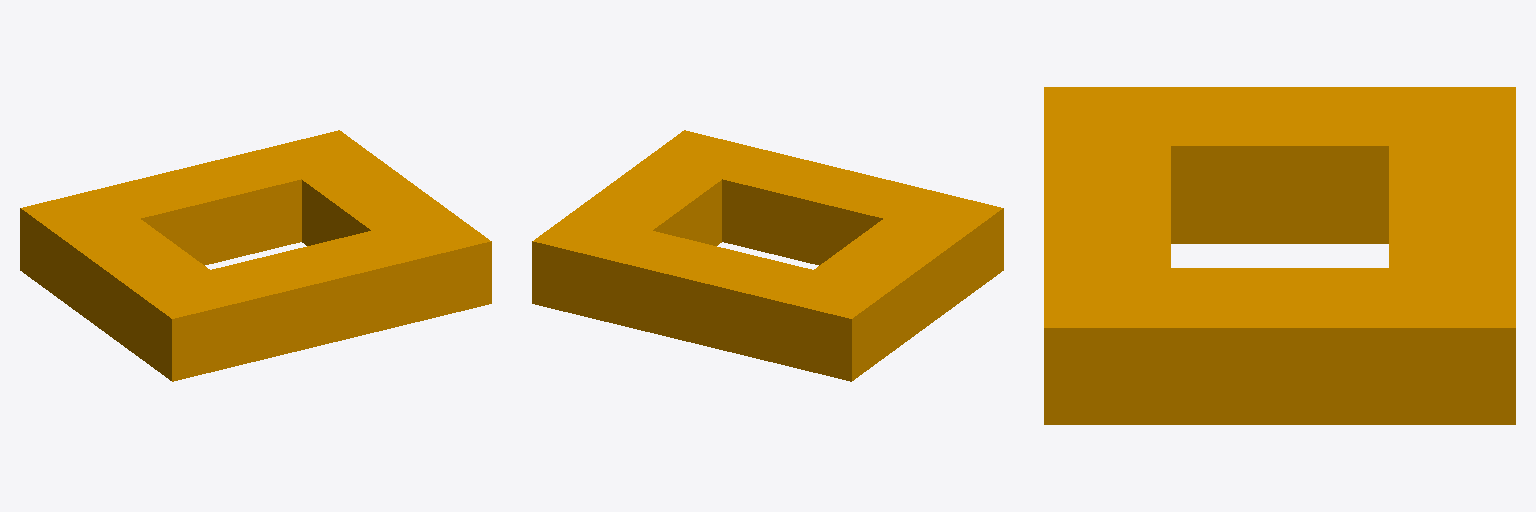
robot.urdf — industreal_tray_insert_round_peg_62mm:
<?xml version="1.0"?>
<robot name="industreal_tray_insert_round_peg_62mm">
    <link name="industreal_tray_insert_round_peg_62mm">
        <visual>
            <geometry>
                <mesh filename="../mesh/industreal_pegs/RectBlockAdjustedZ.obj"/>
            </geometry>
        </visual>
        <collision>
            <geometry>
                <mesh filename="../mesh/industreal_pegs/RectBlockAdjustedZ.obj"/>
            </geometry>
            <sdf resolution="256"/>
        </collision>
    </link>
</robot>

--- What the picture shows (computed from the rendered views, not written in the file) ---
3 views of the same robot in one strip: view 1: azimuth 30°, elevation 25°; view 2: azimuth 150°, elevation 25°; view 3: azimuth 270°, elevation 25° (orthographic).
Robot: industreal_tray_insert_round_peg_62mm — 1 links, 0 joints (none); root link industreal_tray_insert_round_peg_62mm; default pose: all joints at 0.
Visible links, largest first — view 1: industreal_tray_insert_round_peg_62mm; view 2: industreal_tray_insert_round_peg_62mm; view 3: industreal_tray_insert_round_peg_62mm.
Link boxes in pixels (bbox=[...]): industreal_tray_insert_round_peg_62mm: bbox=[20, 130, 491, 381]; industreal_tray_insert_round_peg_62mm: bbox=[532, 130, 1003, 381]; industreal_tray_insert_round_peg_62mm: bbox=[1044, 87, 1515, 424].
Size in the robot's own frame: 0.1016 by 0.0837 by 0.0191 metres.
Meshes: 1 distinct files referenced, 1 mesh visuals loaded (1 OBJ).